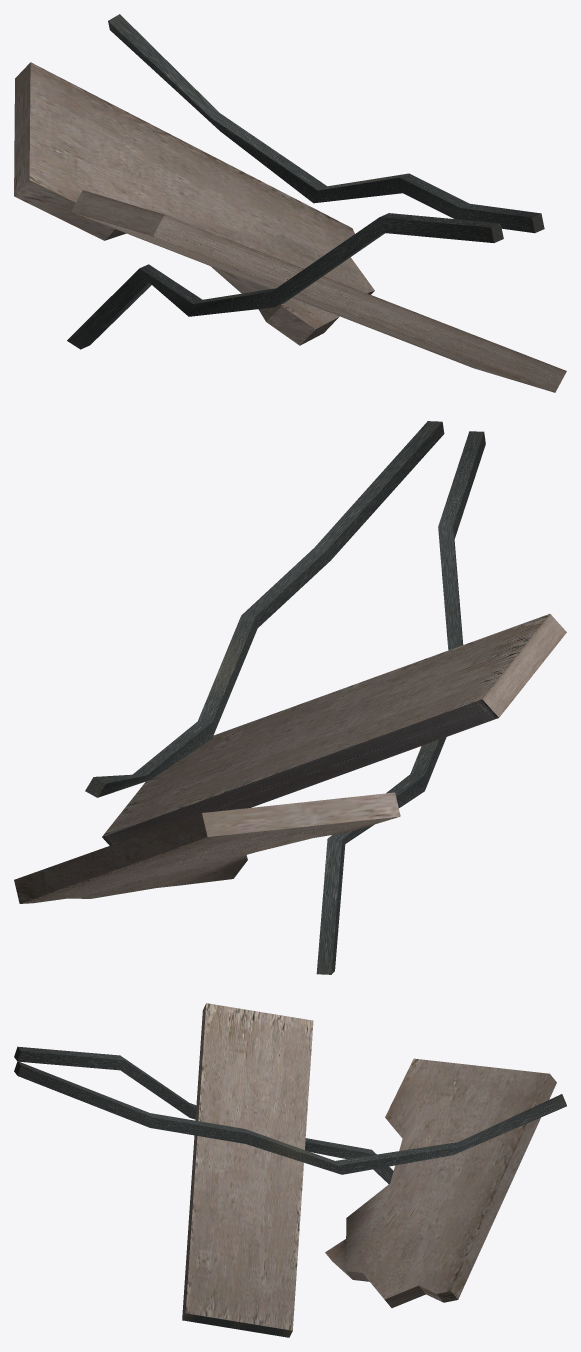
The model's file is M2_Zone4_FlyOver_Tunnel_F.glb.
The picture shows the model from 3 angles, top to bottom: view 1: azimuth 30°, elevation 25°; view 2: azimuth 150°, elevation 25°; view 3: azimuth 270°, elevation 25°; orthographic projection. The views are drawn at different scales.
Visible parts, largest first — view 1: M2_ZONE4_FLYOVER_TUNNEL_F; view 2: M2_ZONE4_FLYOVER_TUNNEL_F; view 3: M2_ZONE4_FLYOVER_TUNNEL_F.
Part boxes in pixels (x1,y1,x2,y2): M2_ZONE4_FLYOVER_TUNNEL_F: (14,14,566,392); M2_ZONE4_FLYOVER_TUNNEL_F: (14,421,566,974); M2_ZONE4_FLYOVER_TUNNEL_F: (14,1003,566,1337).
Bounding box in the file's own units: 8.72 × 6.51 × 14.12.
Materials: 4 (4 with a texture image).
